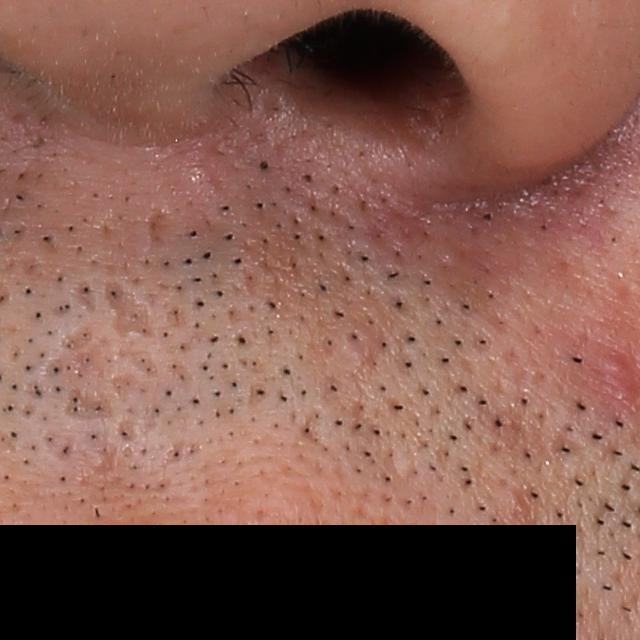atrophic_scar: (109, 356, 205, 444), (39, 335, 121, 379), (105, 278, 158, 340), (57, 385, 122, 429), (142, 207, 183, 267), (114, 346, 160, 379), (70, 280, 98, 318)
papule: (600, 349, 639, 401)
